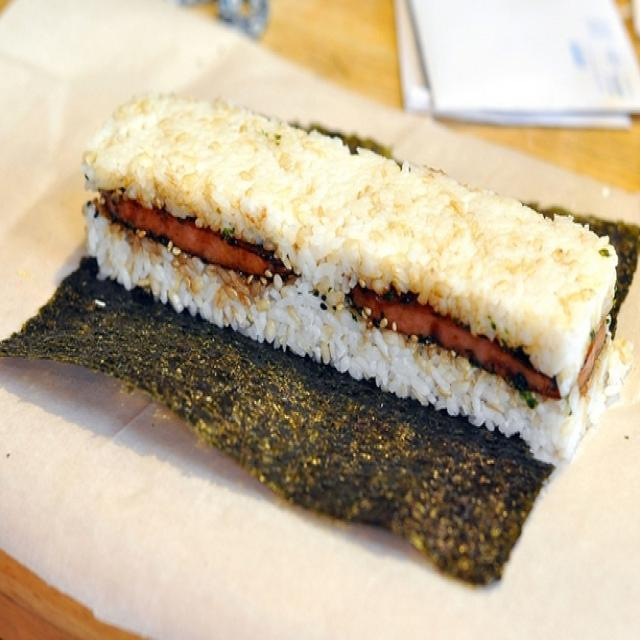寿司卷物: (42, 74, 612, 480)
